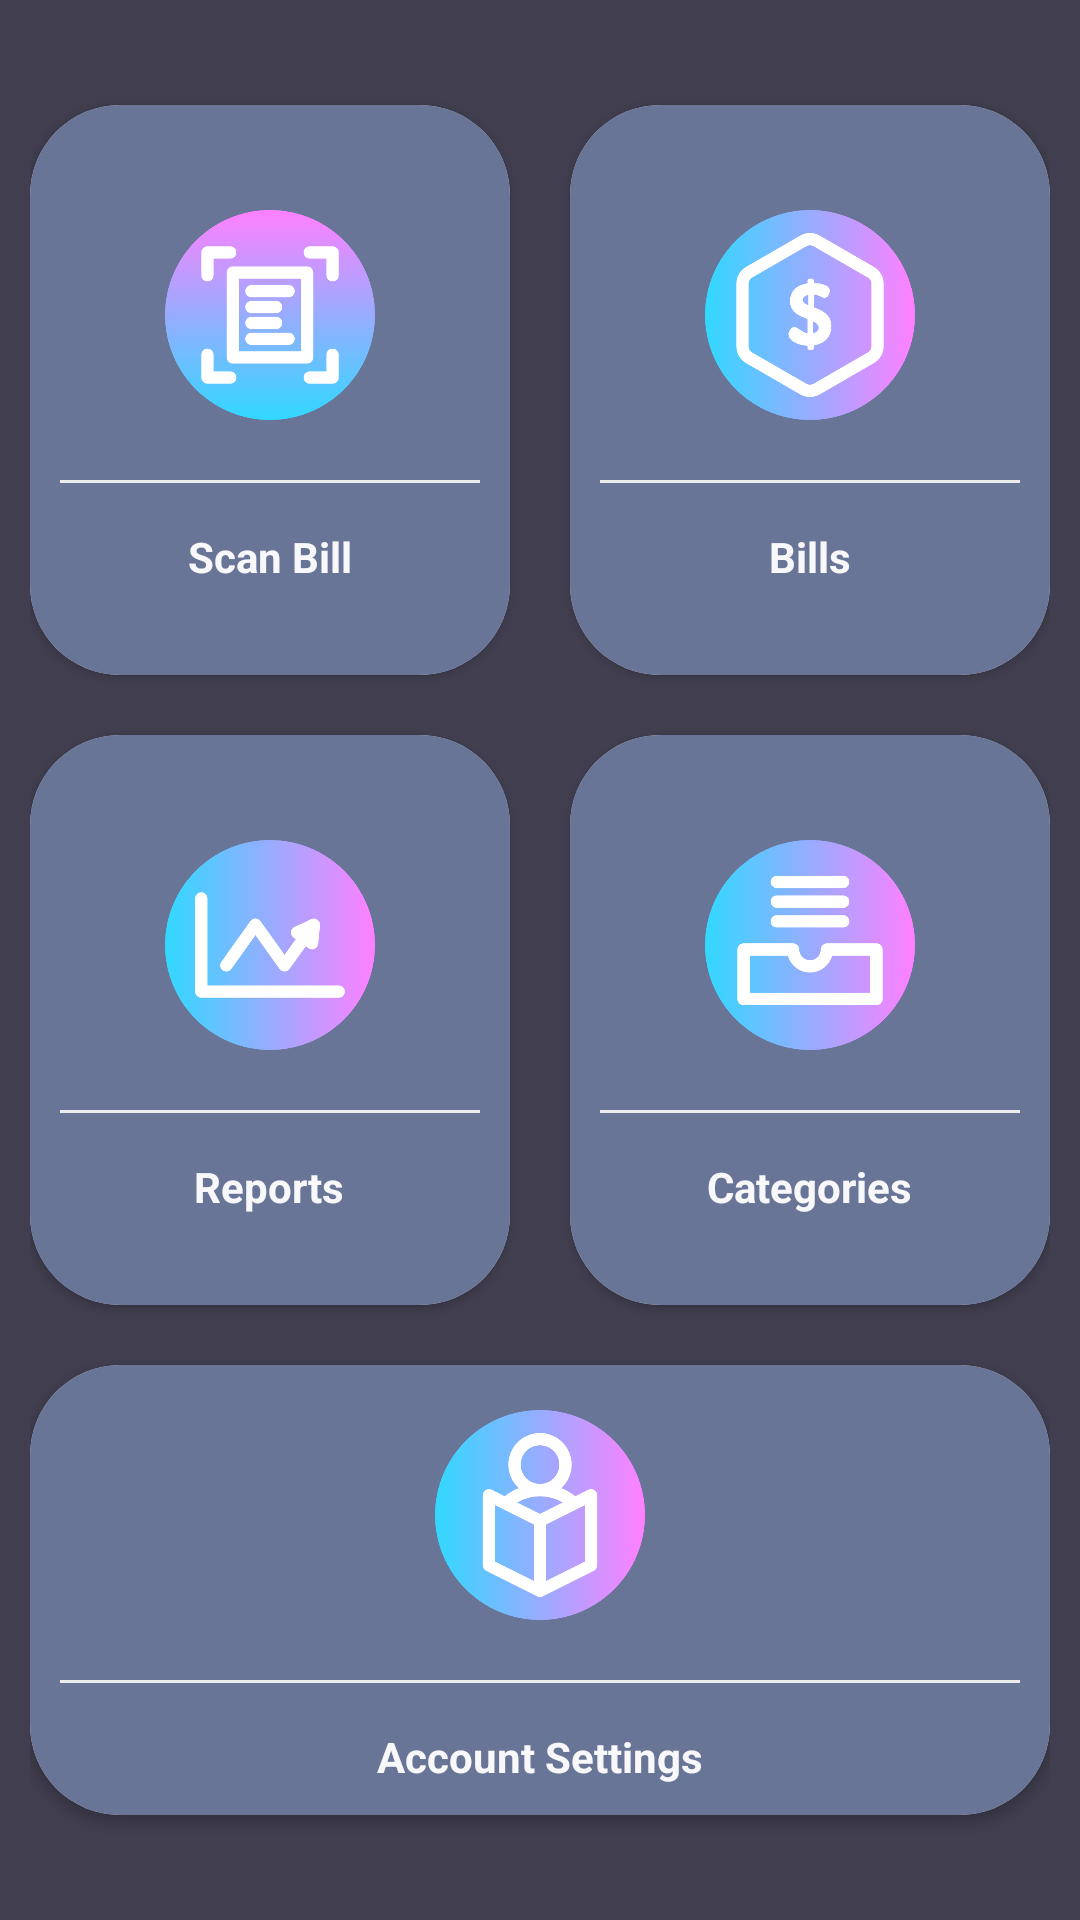

Screen size 1080w x 1920h. Icon name, then its box in pixels as [x1,y1,x2,y2]:
analytics: [165,840,375,1050]
inbox: [705,840,915,1050]
